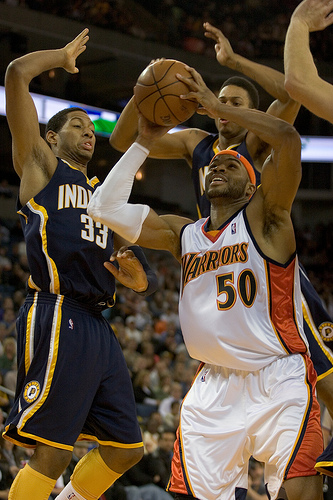basketball: (133, 59, 198, 127)
